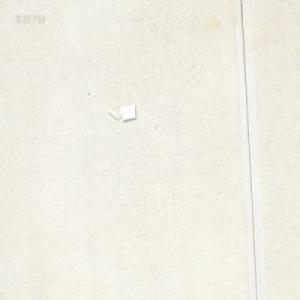LuggageTag: (105, 103, 137, 121)
